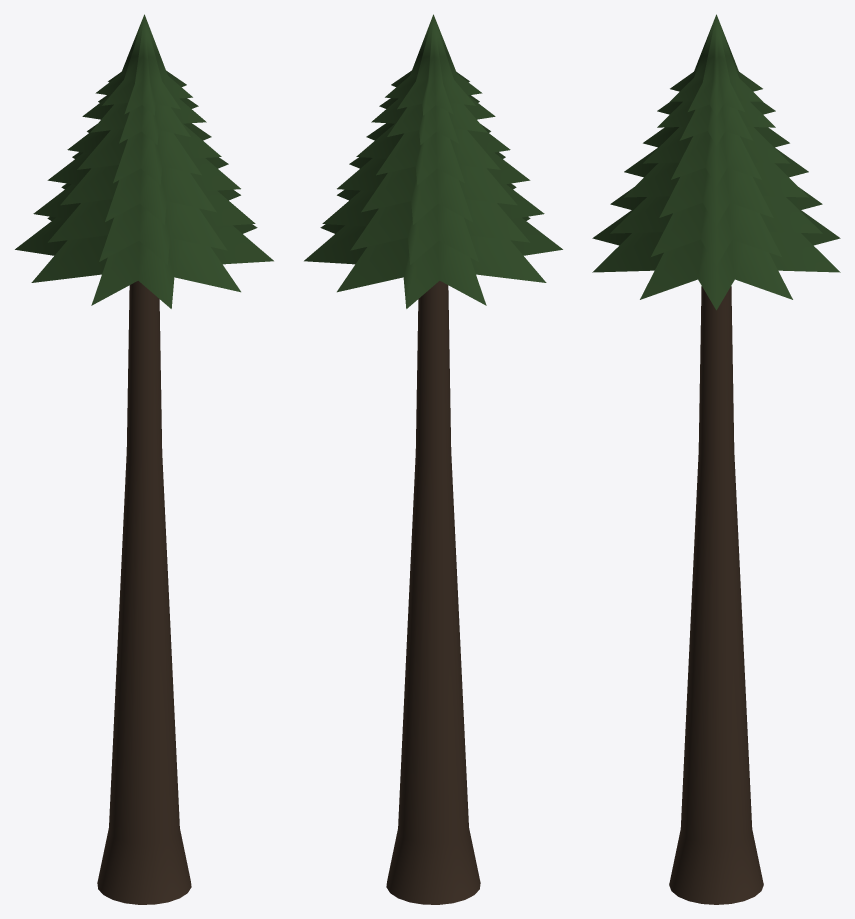
The picture shows the model from 3 angles, left to right: view 1: azimuth 30°, elevation 25°; view 2: azimuth 150°, elevation 25°; view 3: azimuth 270°, elevation 25°; orthographic projection.
Parts seen in each view (by area): view 1: arvore4; view 2: arvore4; view 3: arvore4.
Boxes of the visible parts, x1,y1,x2,y2 form: arvore4: (15, 14, 273, 904); arvore4: (304, 14, 562, 904); arvore4: (592, 14, 840, 904).
Size of the model in its own units: 2 by 7.35 by 1.9.
